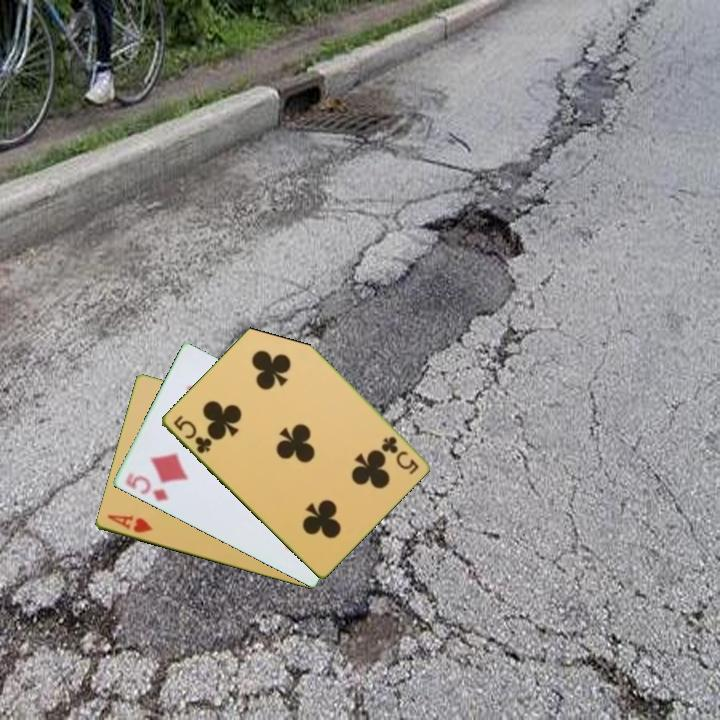5c: (169, 412, 214, 457), (377, 432, 421, 477)
5d: (121, 469, 171, 505)
Ah: (103, 511, 155, 536)
